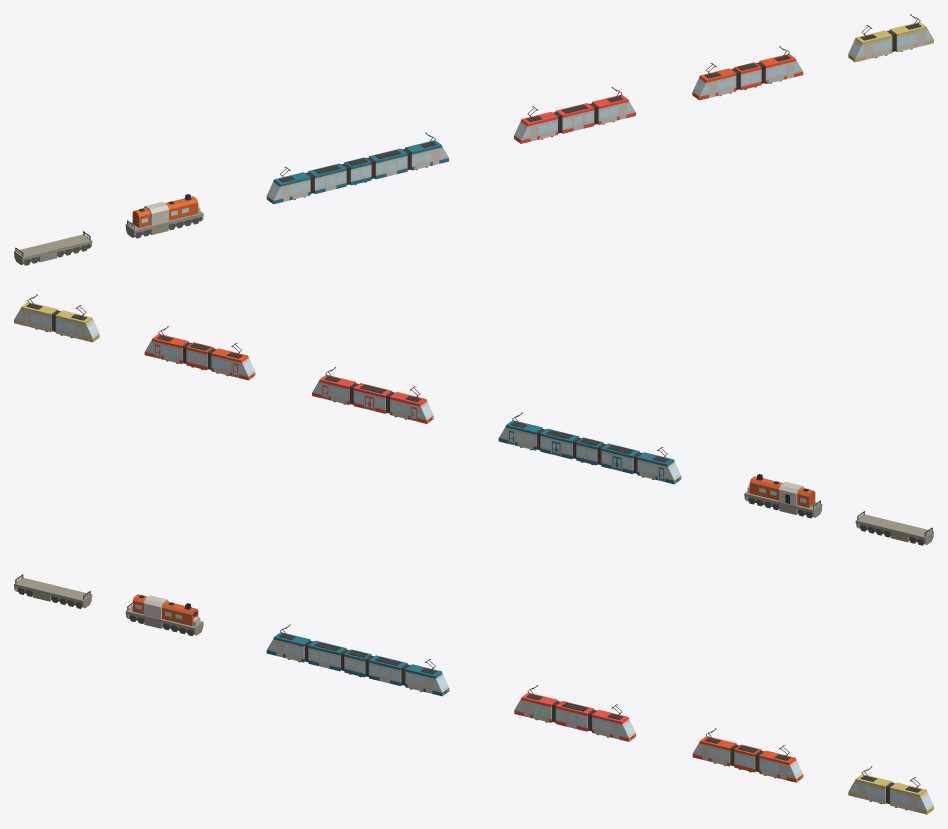
File: city_trams.glb
3 views of the same model, one above another, from view 1: azimuth 30°, elevation 25°; view 2: azimuth 150°, elevation 25°; view 3: azimuth 330°, elevation 25° (orthographic).
Visible parts, largest first — view 1: Tram_4_Mat_0; view 2: Tram_4_Mat_0; view 3: Tram_4_Mat_0.
Boxes of the visible parts, left/top/right/bottom form: Tram_4_Mat_0: left=14, top=14, right=933, bottom=265; Tram_4_Mat_0: left=14, top=294, right=933, bottom=545; Tram_4_Mat_0: left=14, top=574, right=933, bottom=814.
Bounding box in the file's own units: 45.48 × 1.44 × 0.755.
1 material, 1 textured.
